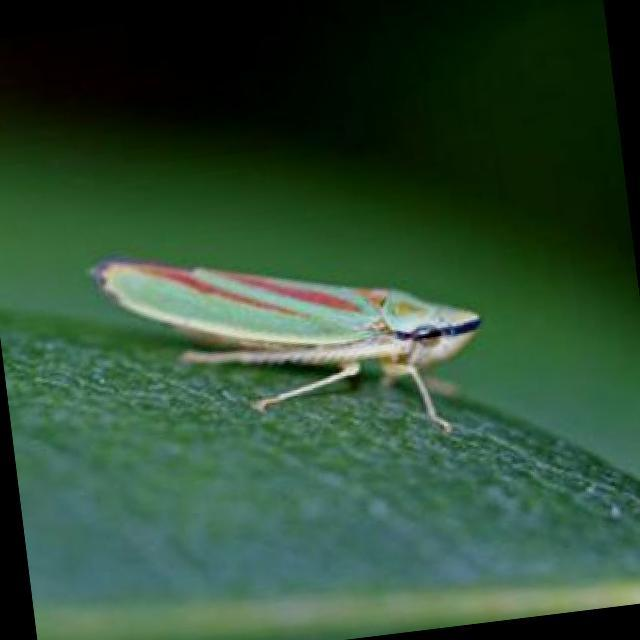green leaf hopper: (91, 259, 480, 430)
